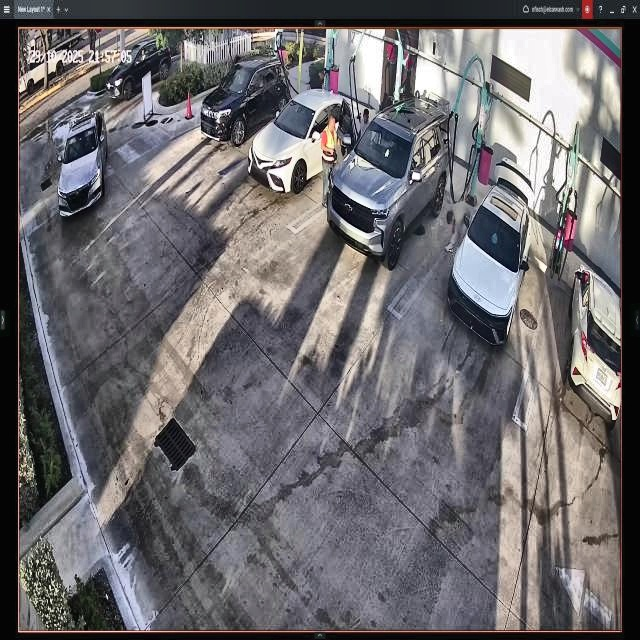Car: (330, 99, 449, 268), (452, 165, 531, 346), (247, 90, 359, 191), (202, 51, 292, 149)
